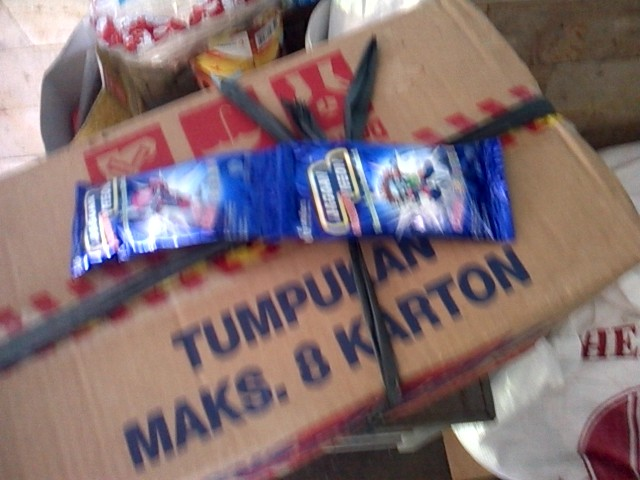jagoan neon: (71, 148, 272, 281), (271, 141, 514, 239)
